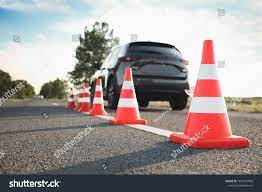car: (90, 42, 190, 111)
cone: (170, 43, 250, 149), (111, 66, 149, 126), (89, 79, 110, 117), (81, 84, 92, 114), (64, 86, 78, 109)
